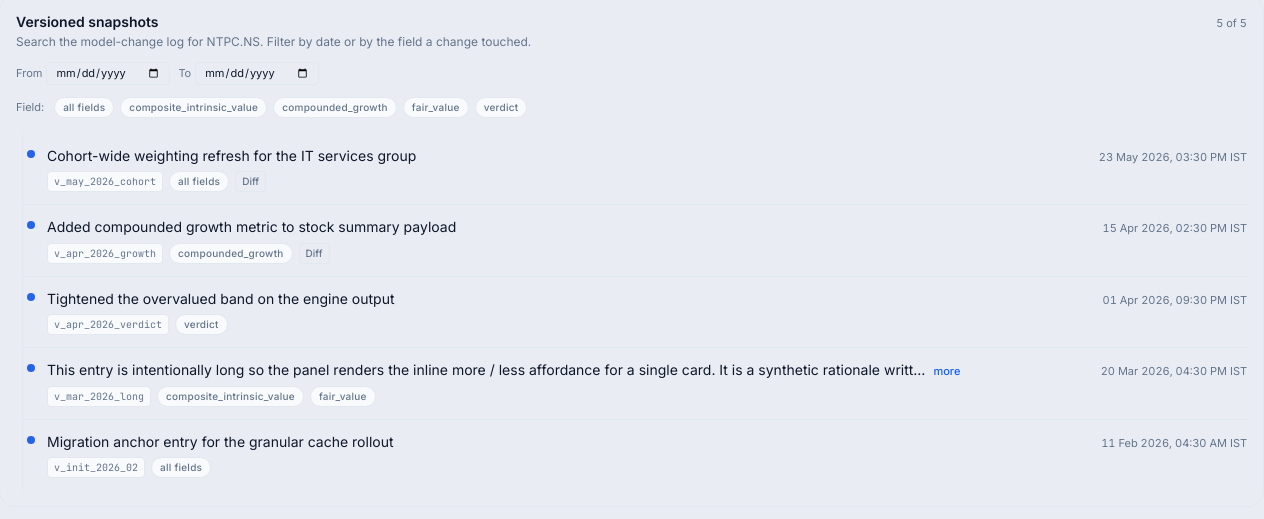
Test case: VersionedSnapshotsPanel › renders a Diff button when fv_history brackets the entry
Expected: the text "Cohort-wide weighting refresh for the IT services group" is shown, [47,146,416,165]
Click the button "Diff" in the row of "v_may_2026_cohort" at (251, 182), box [235,171,266,192]
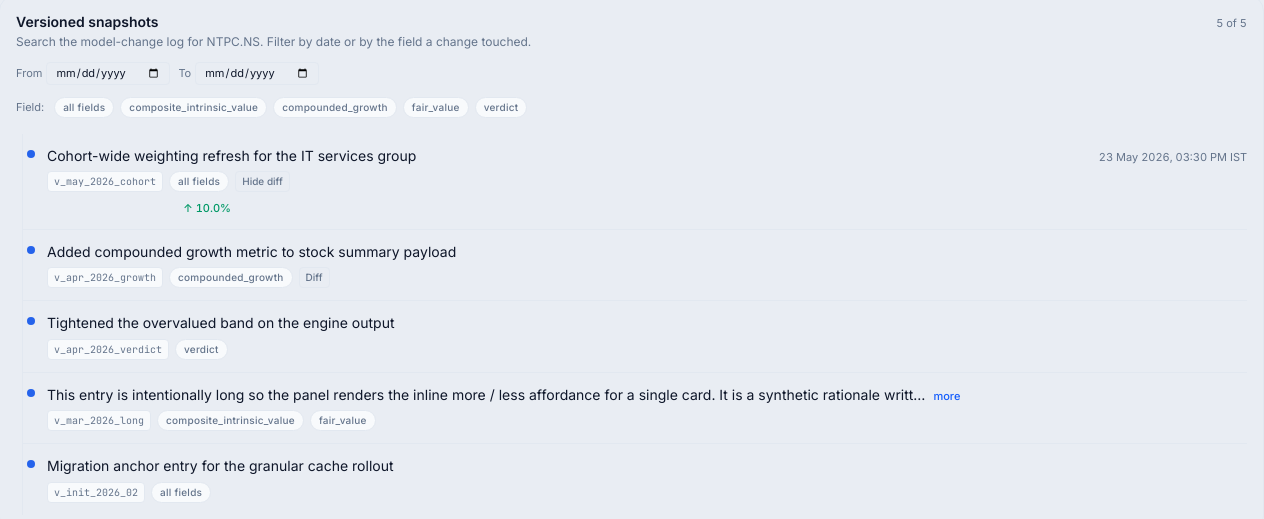
Expected: the text "↑ 10.0%" is shown, [183,201,231,215]
